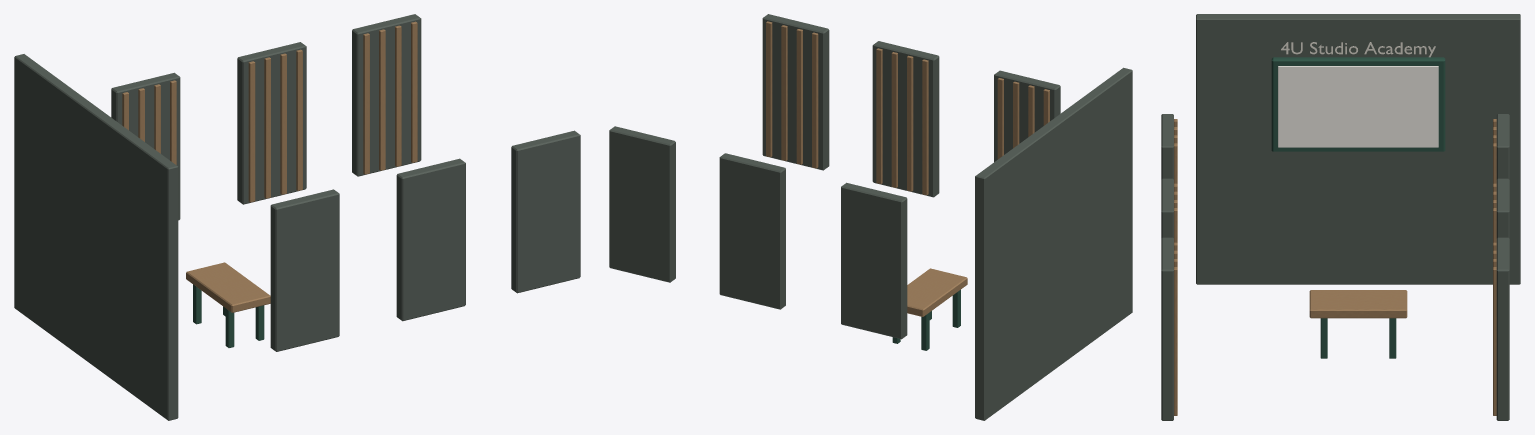
The model's file is room-academy-v2.glb.
The picture shows the model from 3 angles, left to right: view 1: azimuth 30°, elevation 25°; view 2: azimuth 150°, elevation 25°; view 3: azimuth 270°, elevation 25°; orthographic projection. The views are drawn at different scales.
Parts seen in each view (by area): view 1: room__academy__acoustic, room__academy__oak, room__academy__greensteel; view 2: room__academy__acoustic, room__academy__oak, room__academy__greensteel; view 3: room__academy__acoustic, room__academy__ivory, room__academy__oak, room__academy__greensteel, room__academy__paper.
Boxes of the visible parts, x1=… form: room__academy__acoustic: x1=14, y1=14, x2=580, y2=420; room__academy__oak: x1=122, y1=21, x2=417, y2=312; room__academy__greensteel: x1=193, y1=284, x2=264, y2=347; room__academy__acoustic: x1=609, y1=14, x2=1132, y2=420; room__academy__oak: x1=766, y1=21, x2=1049, y2=316; room__academy__greensteel: x1=892, y1=290, x2=960, y2=350; room__academy__acoustic: x1=1161, y1=14, x2=1520, y2=420; room__academy__ivory: x1=1278, y1=66, x2=1438, y2=147; room__academy__oak: x1=1174, y1=119, x2=1496, y2=415; room__academy__greensteel: x1=1271, y1=57, x2=1445, y2=358; room__academy__paper: x1=1281, y1=42, x2=1435, y2=57.
Bounding box in the file's own units: 4.5 × 2.74 × 3.36.
5 materials, 1 textured.
